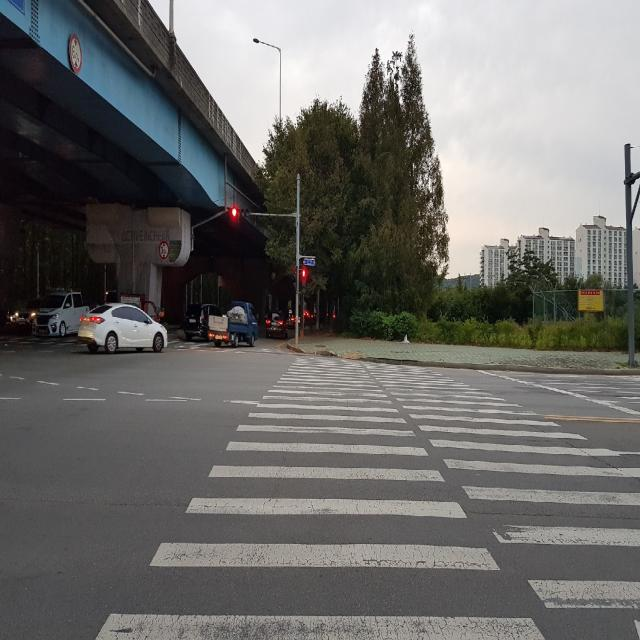빨간불: (301, 265, 307, 290)
횡단보도: (93, 356, 640, 640)
